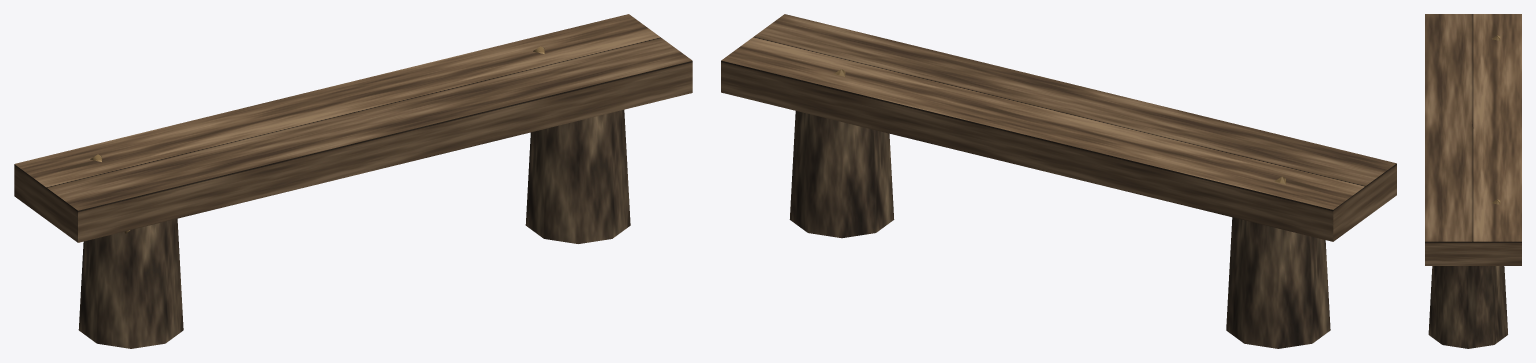
File: panca_ceppi.gltf
The picture shows the model from 3 angles, left to right: view 1: azimuth 30°, elevation 25°; view 2: azimuth 150°, elevation 25°; view 3: azimuth 270°, elevation 25°; orthographic projection. The views are drawn at different scales.
Visible parts, largest first — view 1: panca_ceppi; view 2: panca_ceppi; view 3: panca_ceppi.
Boxes of the visible parts, x1,y1,x2,y2 form: panca_ceppi: (14,14,692,348); panca_ceppi: (721,14,1396,348); panca_ceppi: (1425,14,1521,348).
Size of the model in its own units: 2 by 0.516 by 0.36.
3 materials, 3 textured.
